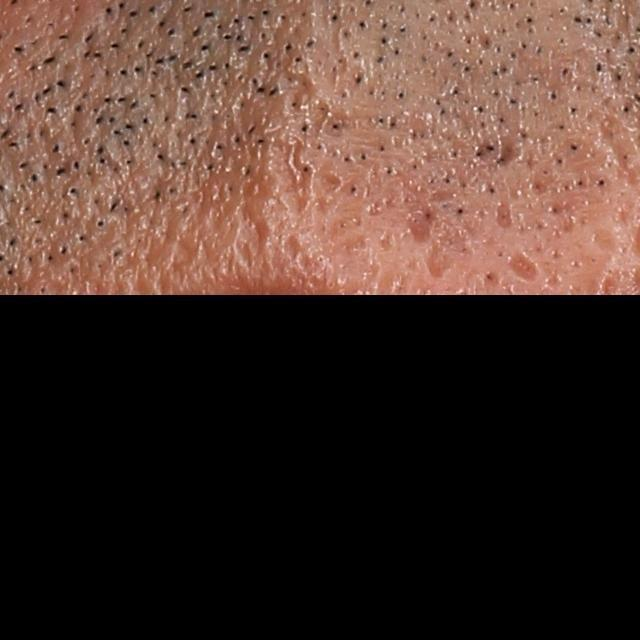atrophic_scar: (277, 128, 322, 212), (277, 70, 319, 133), (401, 206, 435, 235), (426, 243, 455, 277), (508, 249, 534, 282), (494, 196, 514, 231)
